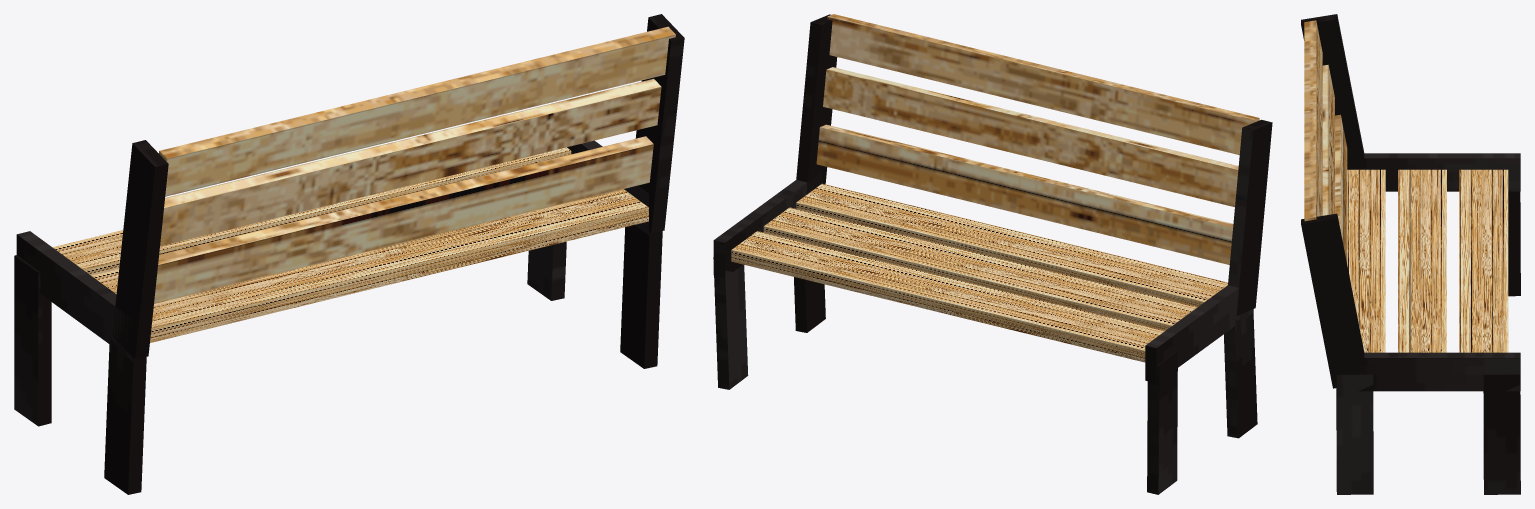
Rendered from benchmodel.fbx.
The picture shows the model from 3 angles, left to right: view 1: azimuth 30°, elevation 25°; view 2: azimuth 150°, elevation 25°; view 3: azimuth 270°, elevation 25°; orthographic projection. The views are drawn at different scales.
Visible parts, largest first — view 1: backsupport, woodenframe, asssupport; view 2: backsupport, asssupport, woodenframe; view 3: woodenframe, asssupport, backsupport.
Part boxes in pixels (x1,y1,x2,y2): backsupport: (154,26,675,303); woodenframe: (14,14,684,494); asssupport: (52,147,648,342); backsupport: (816,14,1259,264); asssupport: (731,183,1227,362); woodenframe: (713,14,1272,494); woodenframe: (1301,14,1520,494); asssupport: (1347,169,1508,352); backsupport: (1304,20,1347,263).
Size of the model in its own units: 125 by 78.2 by 56.04.
Materials: 2 (2 with a texture image).
